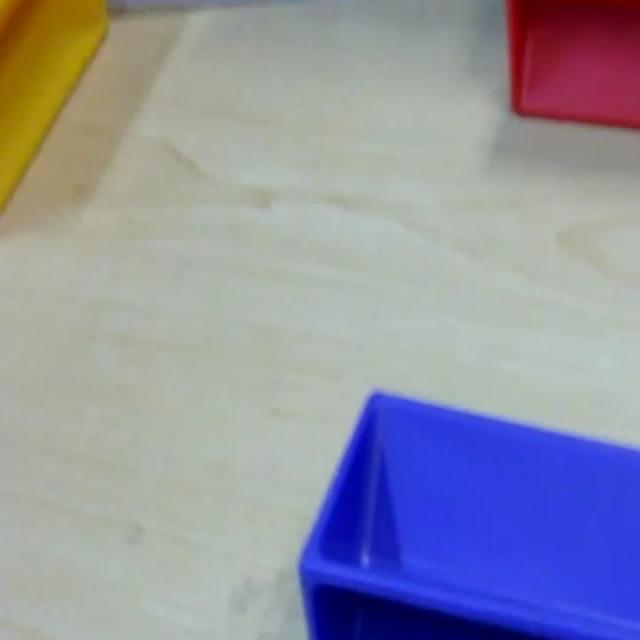blue_block: (297, 384, 639, 636)
red_block: (504, 0, 638, 129)
yellow_block: (0, 0, 109, 213)
